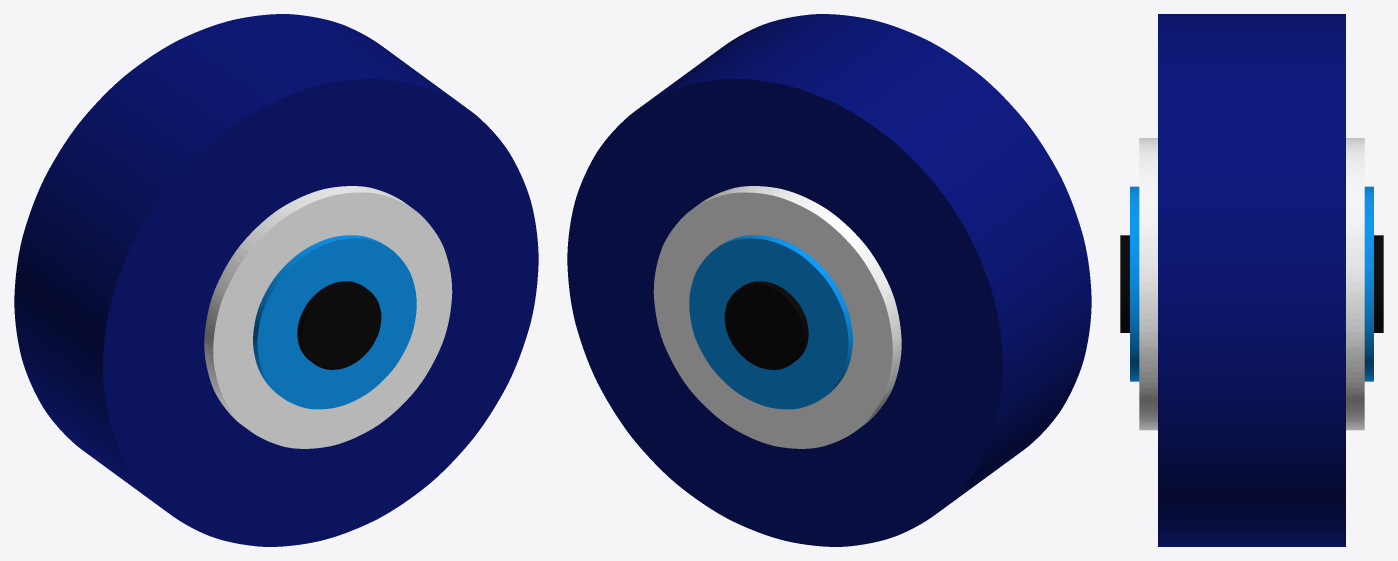
The picture shows the model from 3 angles, left to right: view 1: azimuth 30°, elevation 25°; view 2: azimuth 150°, elevation 25°; view 3: azimuth 270°, elevation 25°; orthographic projection. The views are drawn at different scales.
Parts seen in each view (by area): view 1: U+1F9FF_layer00_obj00, U+1F9FF_layer02_obj00, U+1F9FF_layer03_obj00, U+1F9FF_layer04_obj00, U+1F9FF_layer01_obj00; view 2: U+1F9FF_layer00_obj00, U+1F9FF_layer02_obj00, U+1F9FF_layer03_obj00, U+1F9FF_layer04_obj00, U+1F9FF_layer01_obj00; view 3: U+1F9FF_layer00_obj00, U+1F9FF_layer02_obj00, U+1F9FF_layer01_obj00, U+1F9FF_layer03_obj00, U+1F9FF_layer04_obj00.
Part boxes in pixels (x1,y1,x2,y2): U+1F9FF_layer00_obj00: (14, 14, 538, 546); U+1F9FF_layer02_obj00: (204, 186, 452, 448); U+1F9FF_layer03_obj00: (253, 235, 416, 409); U+1F9FF_layer04_obj00: (297, 281, 381, 369); U+1F9FF_layer01_obj00: (204, 186, 405, 424); U+1F9FF_layer00_obj00: (567, 14, 1091, 546); U+1F9FF_layer02_obj00: (653, 186, 901, 448); U+1F9FF_layer03_obj00: (689, 235, 852, 409); U+1F9FF_layer04_obj00: (724, 281, 808, 369); U+1F9FF_layer01_obj00: (701, 186, 901, 425); U+1F9FF_layer00_obj00: (1158, 14, 1345, 546); U+1F9FF_layer02_obj00: (1139, 138, 1364, 430); U+1F9FF_layer01_obj00: (1148, 138, 1355, 430); U+1F9FF_layer03_obj00: (1130, 186, 1373, 381); U+1F9FF_layer04_obj00: (1120, 235, 1383, 332).
Bounding box in the file's own units: 0.5678 × 0.5677 × 0.28.
